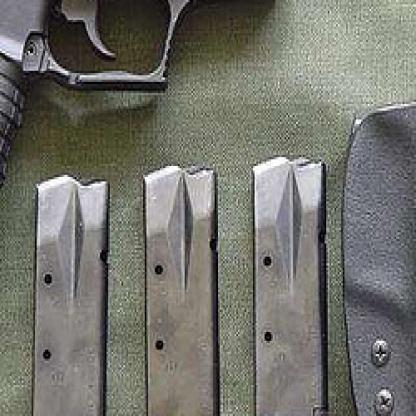gun: (0, 0, 316, 266)
